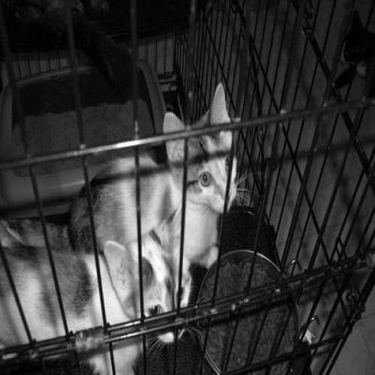cat: (8, 72, 248, 329)
